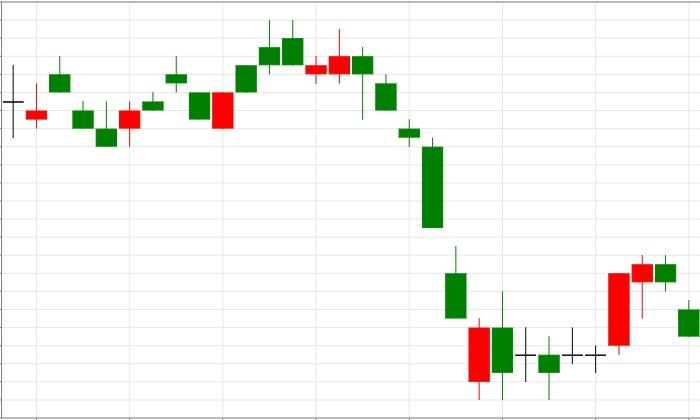bullish_engulfing_rise: (328, 29, 514, 401)
